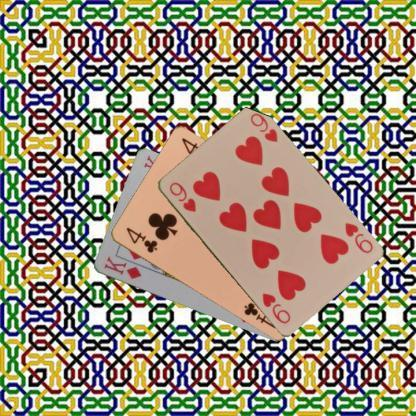4c: (123, 224, 159, 254)
9h: (341, 219, 374, 254), (166, 179, 197, 214)
Kd: (101, 254, 143, 281)
